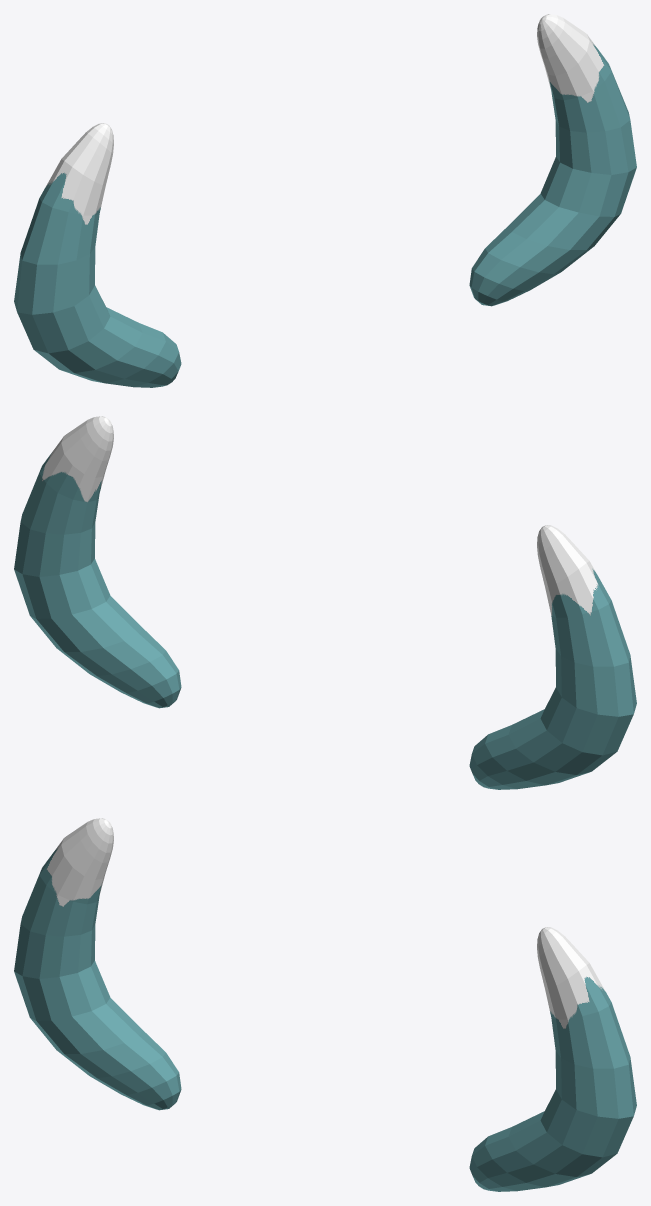
File: Devil horns.fbx
3 renders of one model, top to bottom at view 1: azimuth 30°, elevation 25°; view 2: azimuth 150°, elevation 25°; view 3: azimuth 330°, elevation 25°, orthographic.
Visible parts, largest first — view 1: Devil Horns; view 2: Devil Horns; view 3: Devil Horns.
Part boxes in pixels (left/top/right/bottom): Devil Horns: left=14, top=14, right=636, bottom=387; Devil Horns: left=14, top=416, right=636, bottom=789; Devil Horns: left=14, top=818, right=636, bottom=1191.
Bounding box in the file's own units: 168 × 71.91 × 17.55.
Materials: 1 (1 with a texture image).
